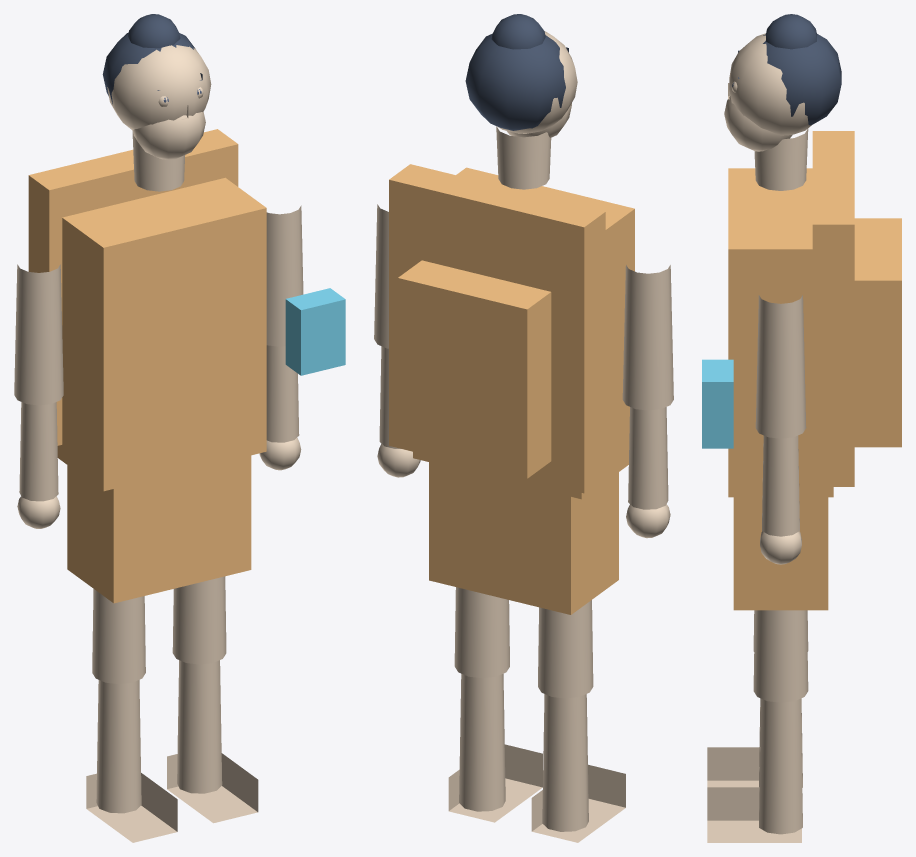
Rendered from body.glb.
3 renders of one model, left to right at view 1: azimuth 30°, elevation 25°; view 2: azimuth 150°, elevation 25°; view 3: azimuth 270°, elevation 25°, orthographic. The views are drawn at different scales.
Visible parts, largest first — view 1: Cloth, Skin, Metal, Hair; view 2: Cloth, Skin, Hair; view 3: Cloth, Skin, Hair, Metal.
Part boxes in pixels (x1=…): Cloth: x1=28, y1=129, x2=266, y2=603; Skin: x1=14, y1=45, x2=303, y2=842; Metal: x1=285, y1=288, x2=345, y2=375; Hair: x1=102, y1=14, x2=202, y2=104; Cloth: x1=389, y1=164, x2=634, y2=614; Skin: x1=374, y1=31, x2=673, y2=842; Hair: x1=465, y1=14, x2=568, y2=130; Cloth: x1=728, y1=131, x2=901, y2=610; Skin: x1=707, y1=33, x2=811, y2=842; Hair: x1=738, y1=14, x2=841, y2=125; Metal: x1=702, y1=359, x2=733, y2=448.
Size of the model in its own units: 0.6468 by 1.67 by 0.38.
